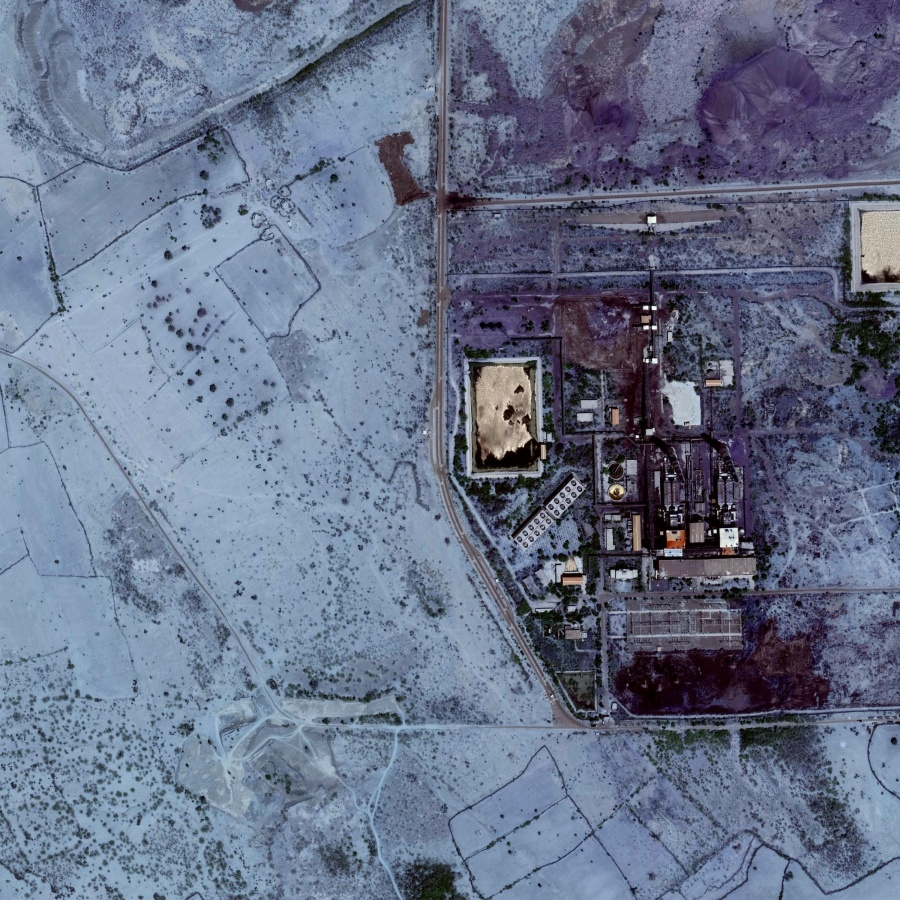PowerPlant: (452, 274, 822, 712)
